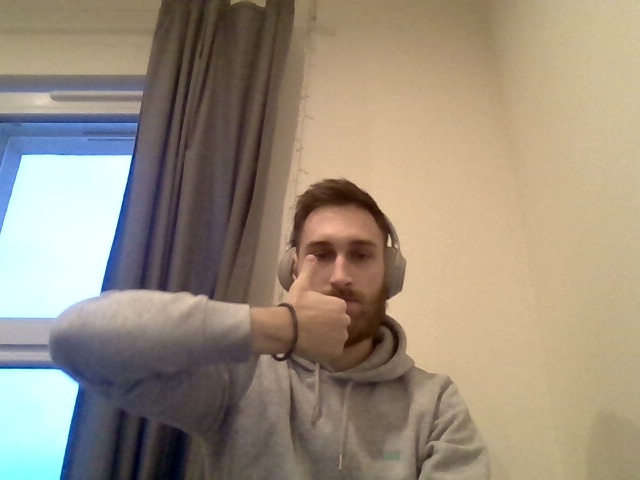ThumbsUp: (279, 254, 351, 363)
